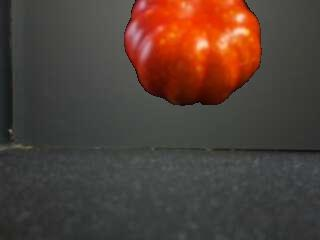Pumpkin: (123, 0, 263, 107)
